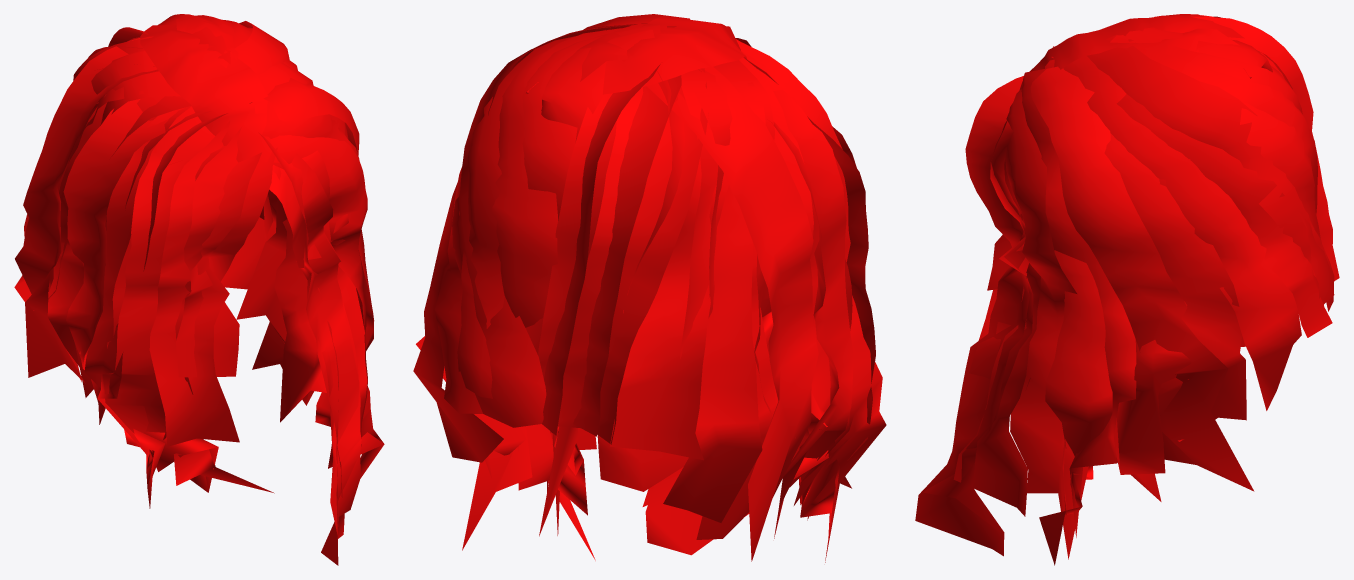
File: elvs_inverted_curly_bob_F.glb
3 views of the same model, side by side, from view 1: azimuth 30°, elevation 25°; view 2: azimuth 150°, elevation 25°; view 3: azimuth 270°, elevation 25° (orthographic). The views are drawn at different scales.
Bounding box in the file's own units: 0.246 × 0.3818 × 0.2929.
1 material, 1 textured.
